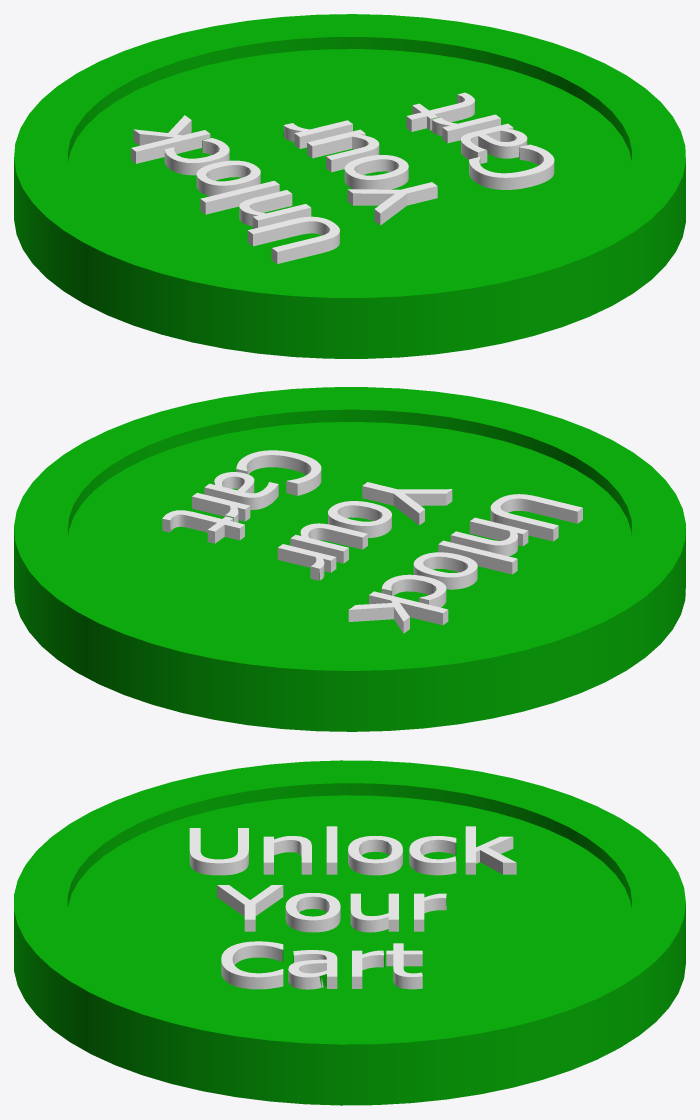
Rendered from unlock-back.glb.
The picture shows the model from 3 angles, top to bottom: view 1: azimuth 30°, elevation 25°; view 2: azimuth 150°, elevation 25°; view 3: azimuth 270°, elevation 25°; orthographic projection.
Parts seen in each view (by area): view 1: Solid1; view 2: Solid1; view 3: Solid1.
Boxes of the visible parts, <box> form: Solid1: <box>14,14,685,358</box>; Solid1: <box>14,387,685,731</box>; Solid1: <box>14,760,685,1105</box>.
Bounding box in the file's own units: 0.025 × 0.0025 × 0.025.
